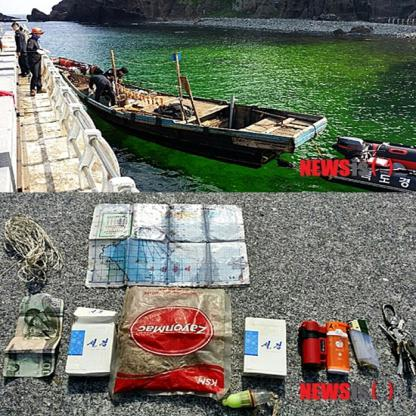fish-b: (58, 63, 332, 169)
